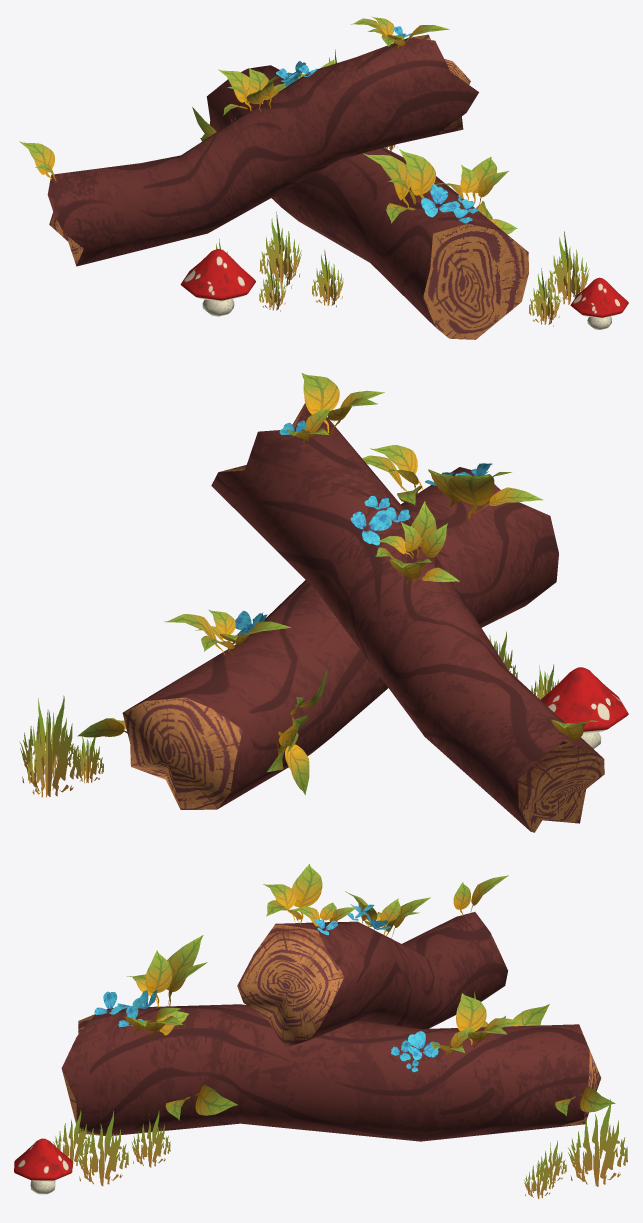
The model's file is Logs.fbx.
3 views of the same model, one above another, from view 1: azimuth 30°, elevation 25°; view 2: azimuth 150°, elevation 25°; view 3: azimuth 270°, elevation 25° (orthographic). The views are drawn at different scales.
Visible parts, largest first — view 1: Cylinder.001; view 2: Cylinder.001; view 3: Cylinder.001.
Boxes of the visible parts, x1,y1,x2,y2 form: Cylinder.001: (19, 16, 628, 339); Cylinder.001: (19, 373, 628, 832); Cylinder.001: (14, 864, 627, 1198).
Size of the model in its own units: 765 by 448 by 943.
